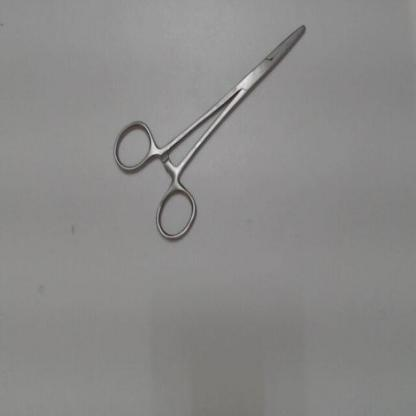Mayo Needle Holder: (105, 14, 317, 250)
